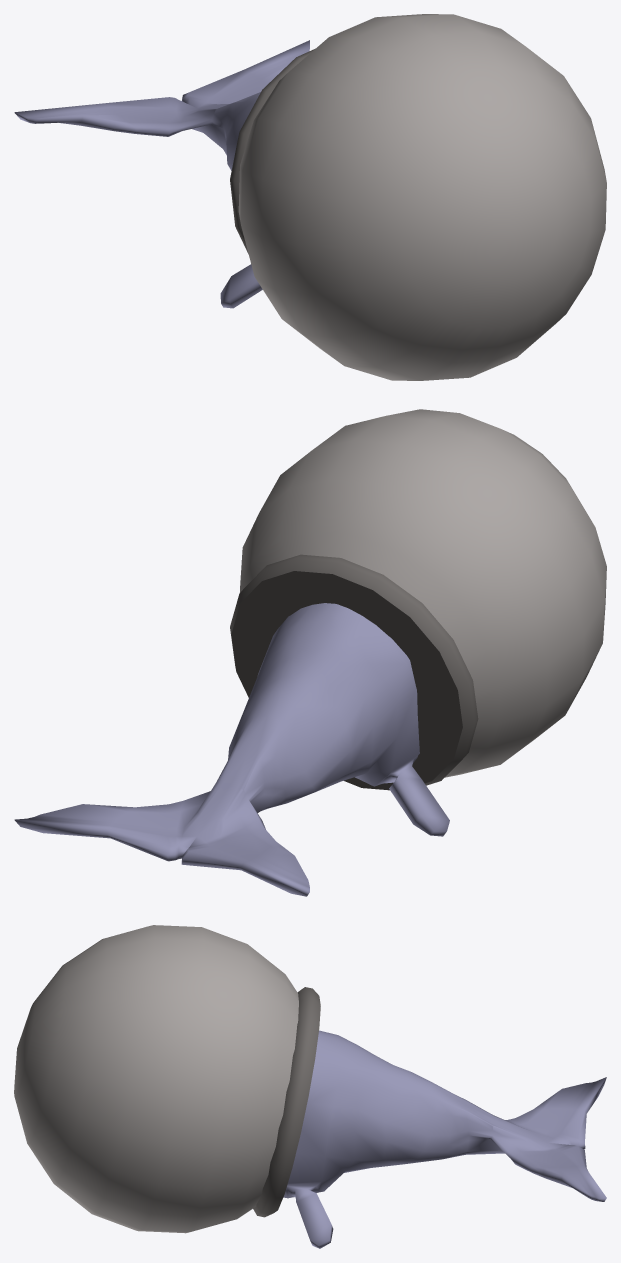
Rendered from whale.FBX.
3 views of the same model, one above another, from view 1: azimuth 30°, elevation 25°; view 2: azimuth 150°, elevation 25°; view 3: azimuth 270°, elevation 25° (orthographic). The views are drawn at different scales.
Parts seen in each view (by area): view 1: Helmet, sperm_whale, Helmet Collar; view 2: Helmet, sperm_whale, Helmet Collar; view 3: Helmet, sperm_whale, Helmet Collar.
Part boxes in pixels (<box>): Helmet: <box>238,14,606,380</box>; sperm_whale: <box>14,40,309,308</box>; Helmet Collar: <box>230,48,315,253</box>; Helmet: <box>240,409,606,777</box>; sperm_whale: <box>14,603,449,896</box>; Helmet Collar: <box>230,554,478,790</box>; Helmet: <box>14,925,298,1233</box>; sperm_whale: <box>283,1030,606,1248</box>; Helmet Collar: <box>253,987,320,1217</box>.
Bounding box in the file's own units: 17.86 × 17.78 × 33.86.
3 materials, 3 textured.
